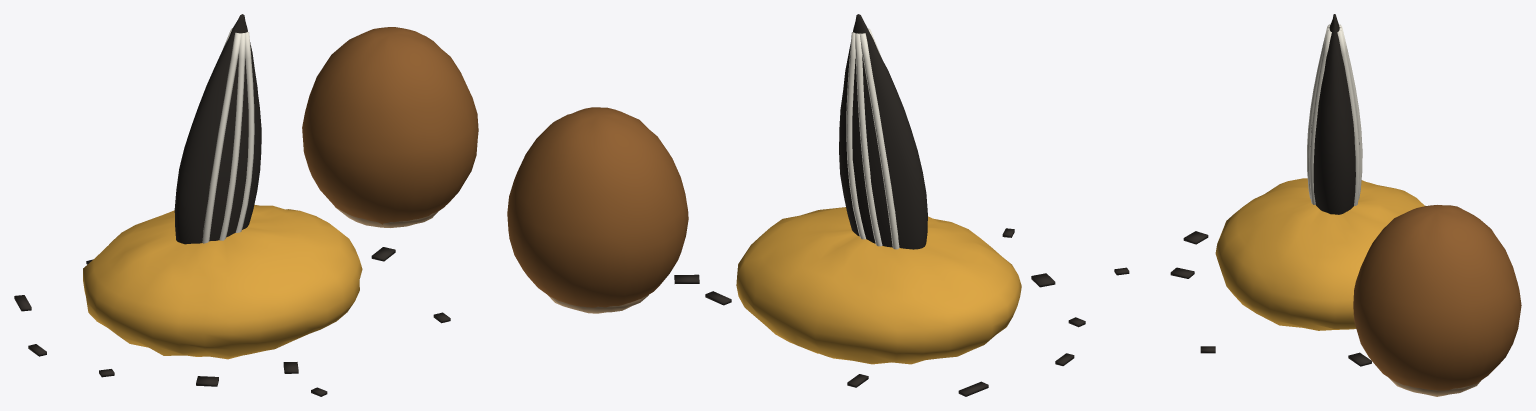
The model's file is training-jawsstation.glb.
The picture shows the model from 3 angles, left to right: view 1: azimuth 30°, elevation 25°; view 2: azimuth 150°, elevation 25°; view 3: azimuth 270°, elevation 25°; orthographic projection. The views are drawn at different scales.
Parts seen in each view (by area): view 1: JawsStation__Base, JawsStation__Hazelnut, JawsStation__Seed, JawsStation__SeedStripes, JawsStation__ShellChips, JawsStation__HazelnutBase; view 2: JawsStation__Base, JawsStation__Hazelnut, JawsStation__Seed, JawsStation__SeedStripes, JawsStation__ShellChips, JawsStation__HazelnutBase; view 3: JawsStation__Hazelnut, JawsStation__Base, JawsStation__Seed, JawsStation__SeedStripes, JawsStation__ShellChips, JawsStation__HazelnutBase.
Boxes of the visible parts, left/top/right/bottom form: JawsStation__Base: left=83, top=204, right=362, bottom=359; JawsStation__Hazelnut: left=302, top=27, right=478, bottom=224; JawsStation__Seed: left=174, top=14, right=261, bottom=244; JawsStation__SeedStripes: left=202, top=28, right=254, bottom=243; JawsStation__ShellChips: left=14, top=247, right=450, bottom=396; JawsStation__HazelnutBase: left=334, top=206, right=443, bottom=227; JawsStation__Base: left=736, top=207, right=1021, bottom=364; JawsStation__Hazelnut: left=507, top=107, right=688, bottom=307; JawsStation__Seed: left=839, top=14, right=927, bottom=249; JawsStation__SeedStripes: left=846, top=28, right=899, bottom=249; JawsStation__ShellChips: left=674, top=228, right=1085, bottom=396; JawsStation__HazelnutBase: left=548, top=295, right=648, bottom=313; JawsStation__Hazelnut: left=1353, top=205, right=1521, bottom=390; JawsStation__Base: left=1215, top=178, right=1425, bottom=330; JawsStation__Seed: left=1310, top=14, right=1359, bottom=214; JawsStation__SeedStripes: left=1307, top=24, right=1362, bottom=205; JawsStation__ShellChips: left=1114, top=231, right=1371, bottom=366; JawsStation__HazelnutBase: left=1388, top=375, right=1488, bottom=396.
Bounding box in the file's own units: 20.86 × 13.06 × 15.92.
